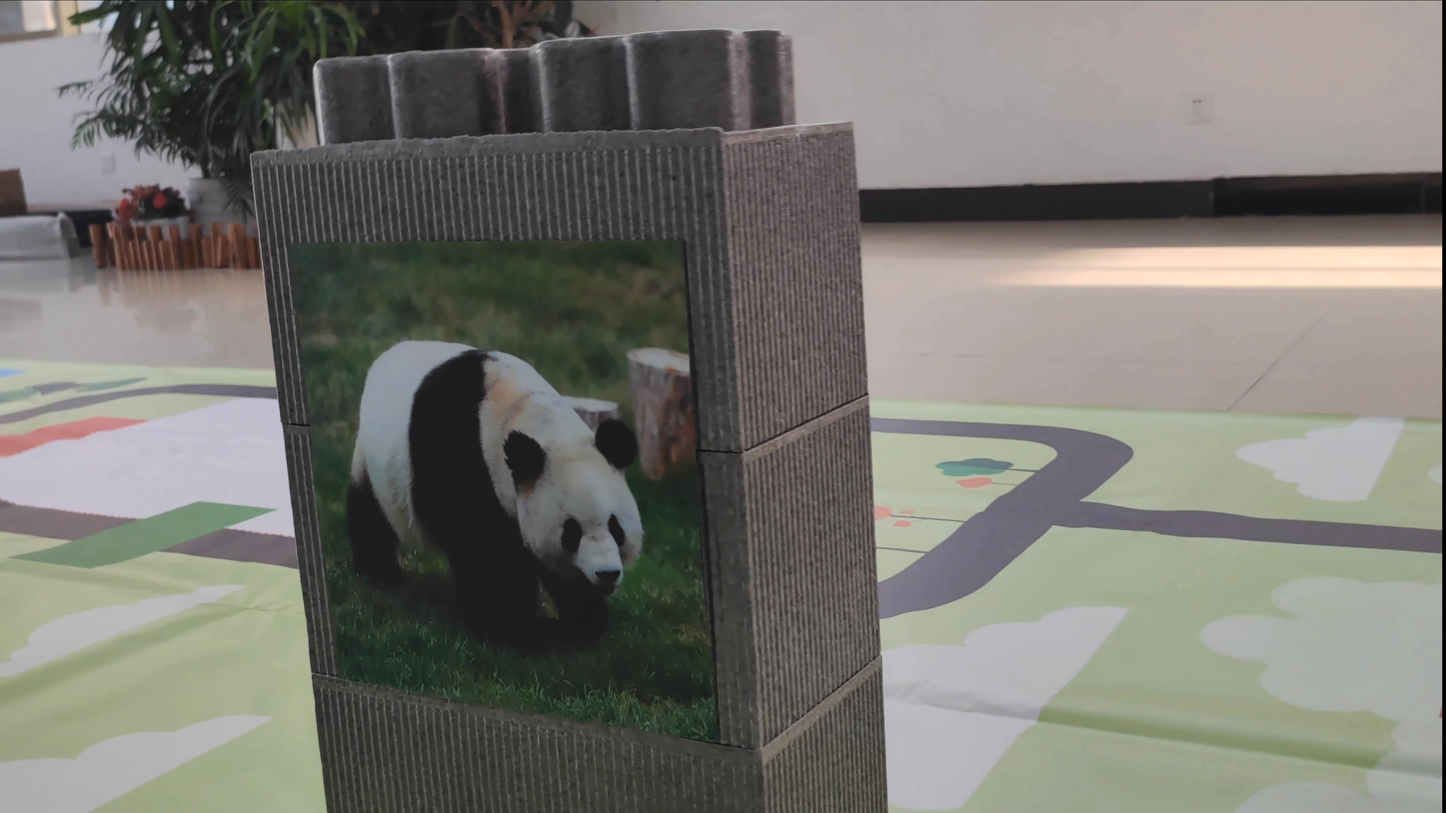panda: (325, 290, 670, 678)
